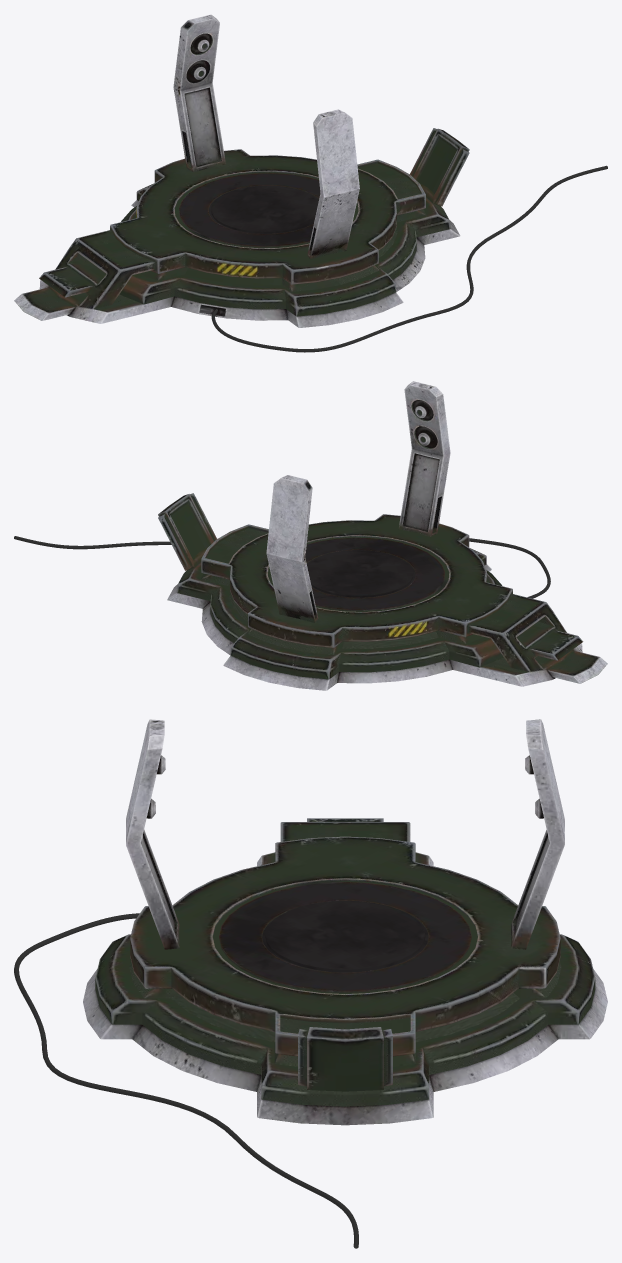
File: launcher.glb
3 views of the same model, one above another, from view 1: azimuth 30°, elevation 25°; view 2: azimuth 150°, elevation 25°; view 3: azimuth 270°, elevation 25° (orthographic). The views are drawn at different scales.
Parts seen in each view (by area): view 1: Cylinder.054_teleporter_0; view 2: Cylinder.054_teleporter_0; view 3: Cylinder.054_teleporter_0.
Boxes of the visible parts, box(x1,y1,x2,y2) form: Cylinder.054_teleporter_0: box(14, 14, 607, 352); Cylinder.054_teleporter_0: box(14, 381, 607, 690); Cylinder.054_teleporter_0: box(14, 719, 607, 1248).
Bounding box in the file's own units: 7.82 × 2.41 × 4.69.
Materials: 1 (1 with a texture image).
